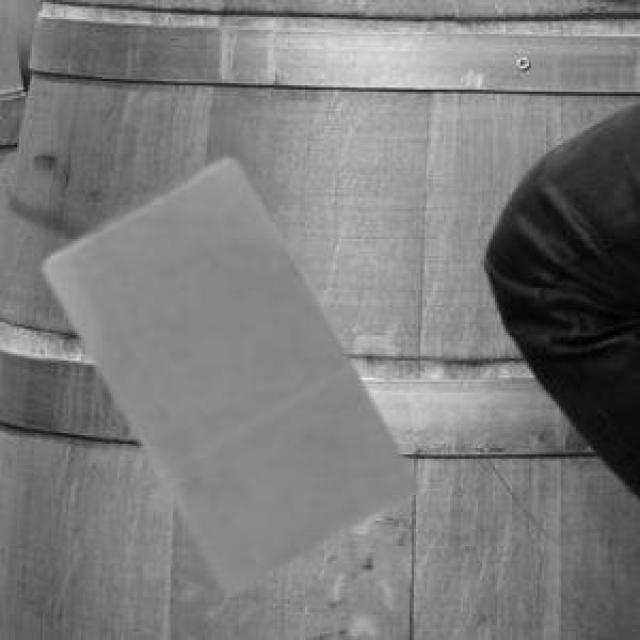paper: (41, 156, 414, 589)
